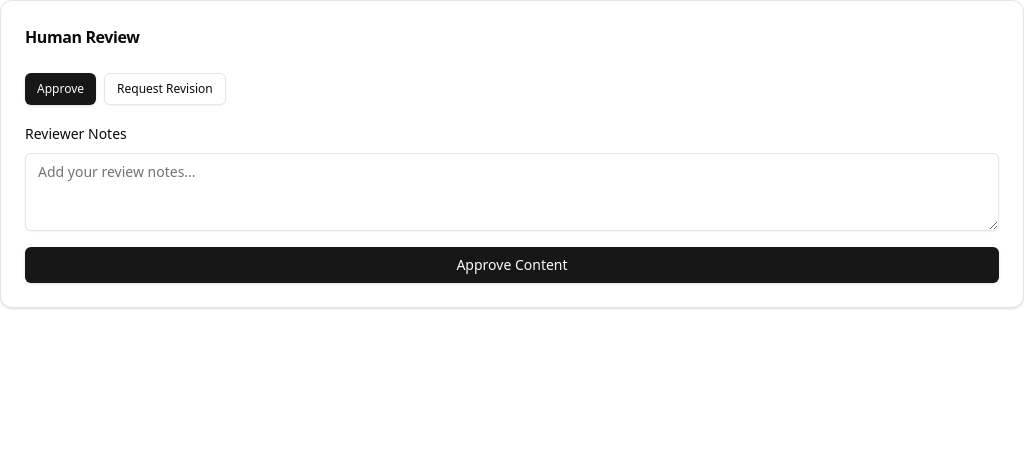
it: ReviewPanel › switches to revision action when clicked
This screenshot has width=1024, height=452.
Click the button "Request Revision".
click(165, 89)  # box [104,73,226,105]
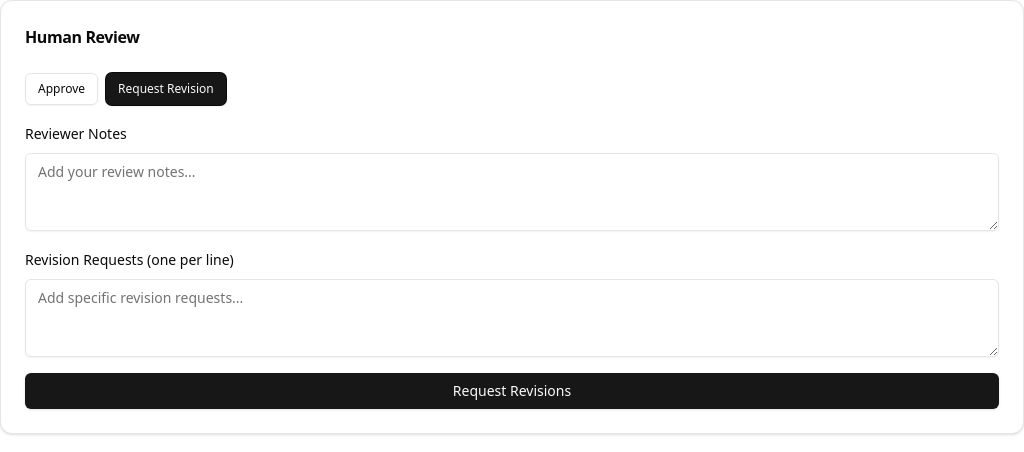
Expected: the button "Request Revisions" is shown, [25,373,999,409]
Expected: the text "Revision Requests (one per line)" is shown, [25,250,234,269]
